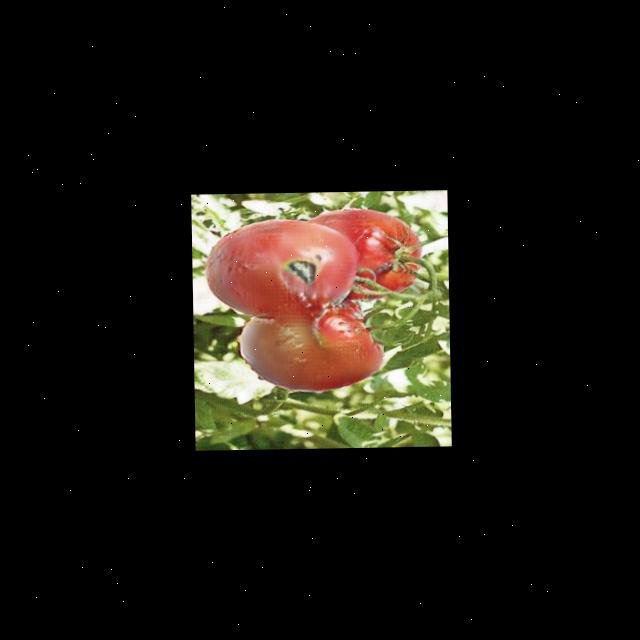tomato: (202, 216, 361, 318), (237, 304, 382, 394)
